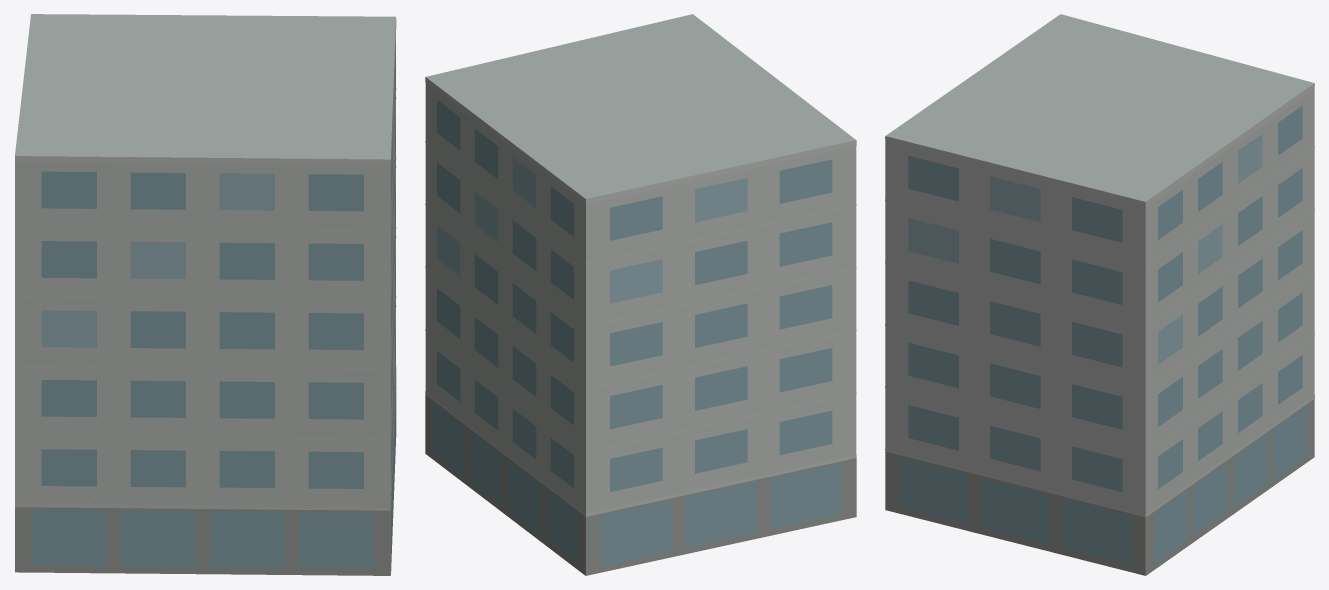
File: survey-upis-32954730.glb
3 renders of one model, left to right at view 1: azimuth 30°, elevation 25°; view 2: azimuth 150°, elevation 25°; view 3: azimuth 270°, elevation 25°, orthographic. The views are drawn at different scales.
Visible parts, largest first — view 1: survey-upis-32954730.tmp; view 2: survey-upis-32954730.tmp; view 3: survey-upis-32954730.tmp.
Part boxes in pixels (x1,y1,x2,y2): survey-upis-32954730.tmp: (15,14,396,575); survey-upis-32954730.tmp: (425,14,856,575); survey-upis-32954730.tmp: (885,14,1314,575).
Bounding box in the file's own units: 17.48 × 16.2 × 16.88.
